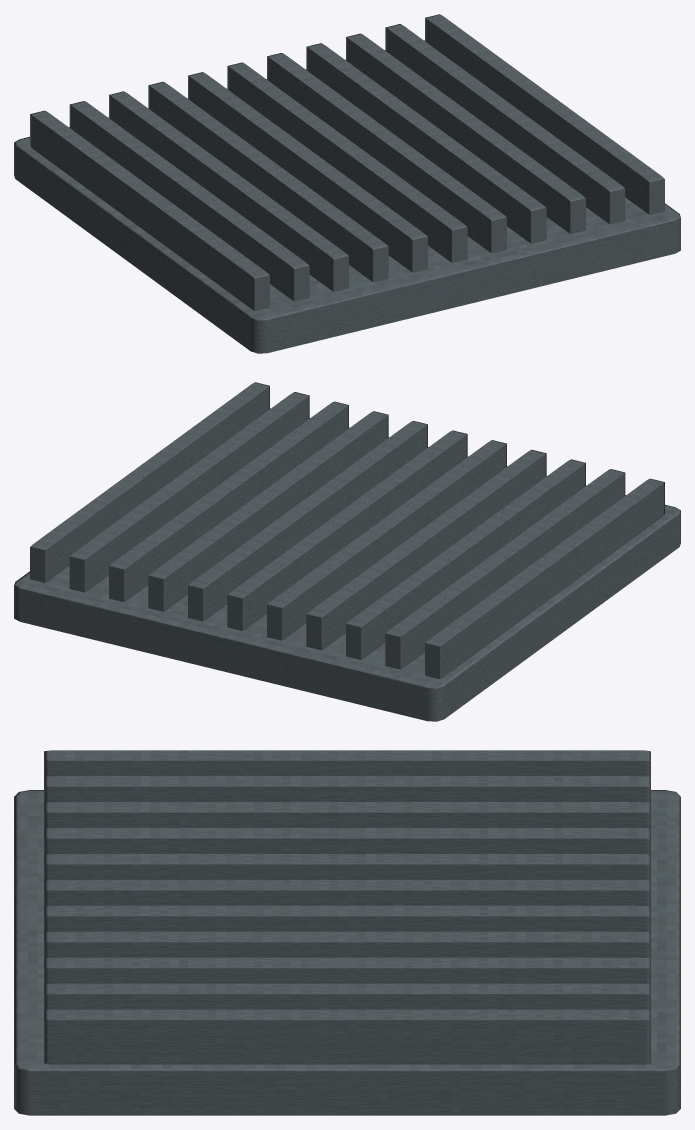
File: bath-drain.glb
3 views of the same model, one above another, from view 1: azimuth 30°, elevation 25°; view 2: azimuth 150°, elevation 25°; view 3: azimuth 270°, elevation 25° (orthographic). The views are drawn at different scales.
Visible parts, largest first — view 1: slat (×11), rim; view 2: slat (×11), rim; view 3: slat (×11), rim.
Boxes of the visible parts, x1,y1,x2,y2 form: slat (×11): (30, 14, 664, 310); rim: (14, 40, 680, 353); slat (×11): (30, 382, 664, 678); rim: (14, 408, 680, 721); slat (×11): (44, 750, 650, 1064); rim: (14, 790, 680, 1115).
Bounding box in the file's own units: 0.15 × 0.0227 × 0.15.
1 material, 1 textured.
